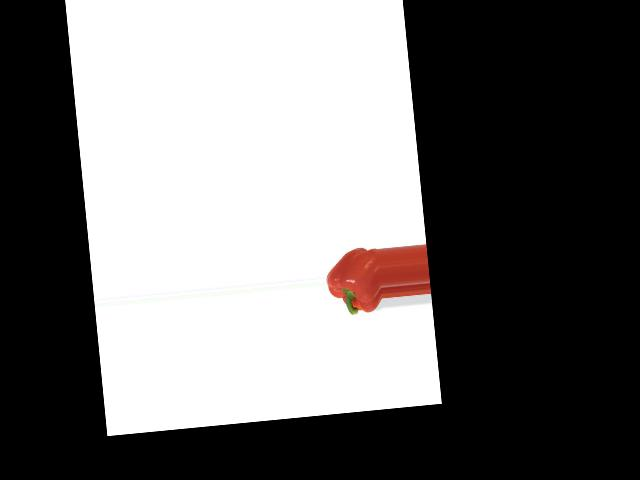bell_pepper: (322, 238, 384, 325)
